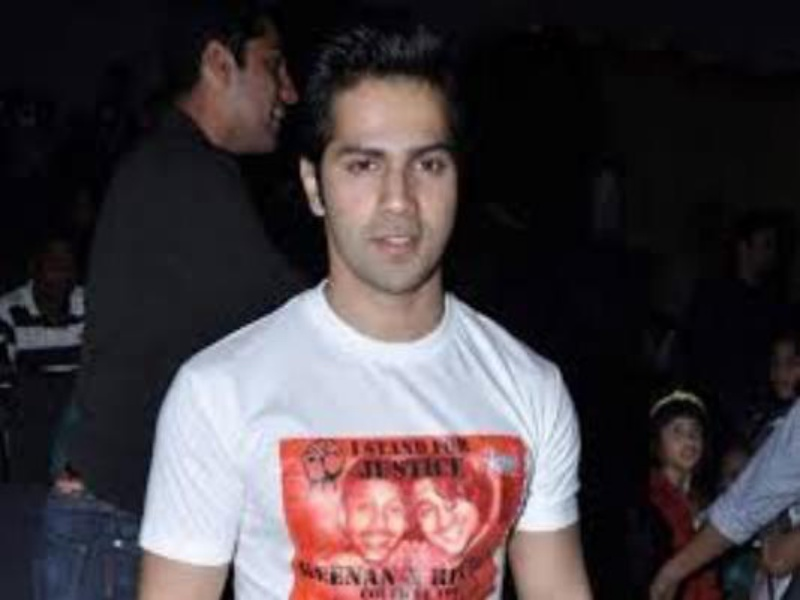TsisyArotava: (295, 56, 471, 308)
